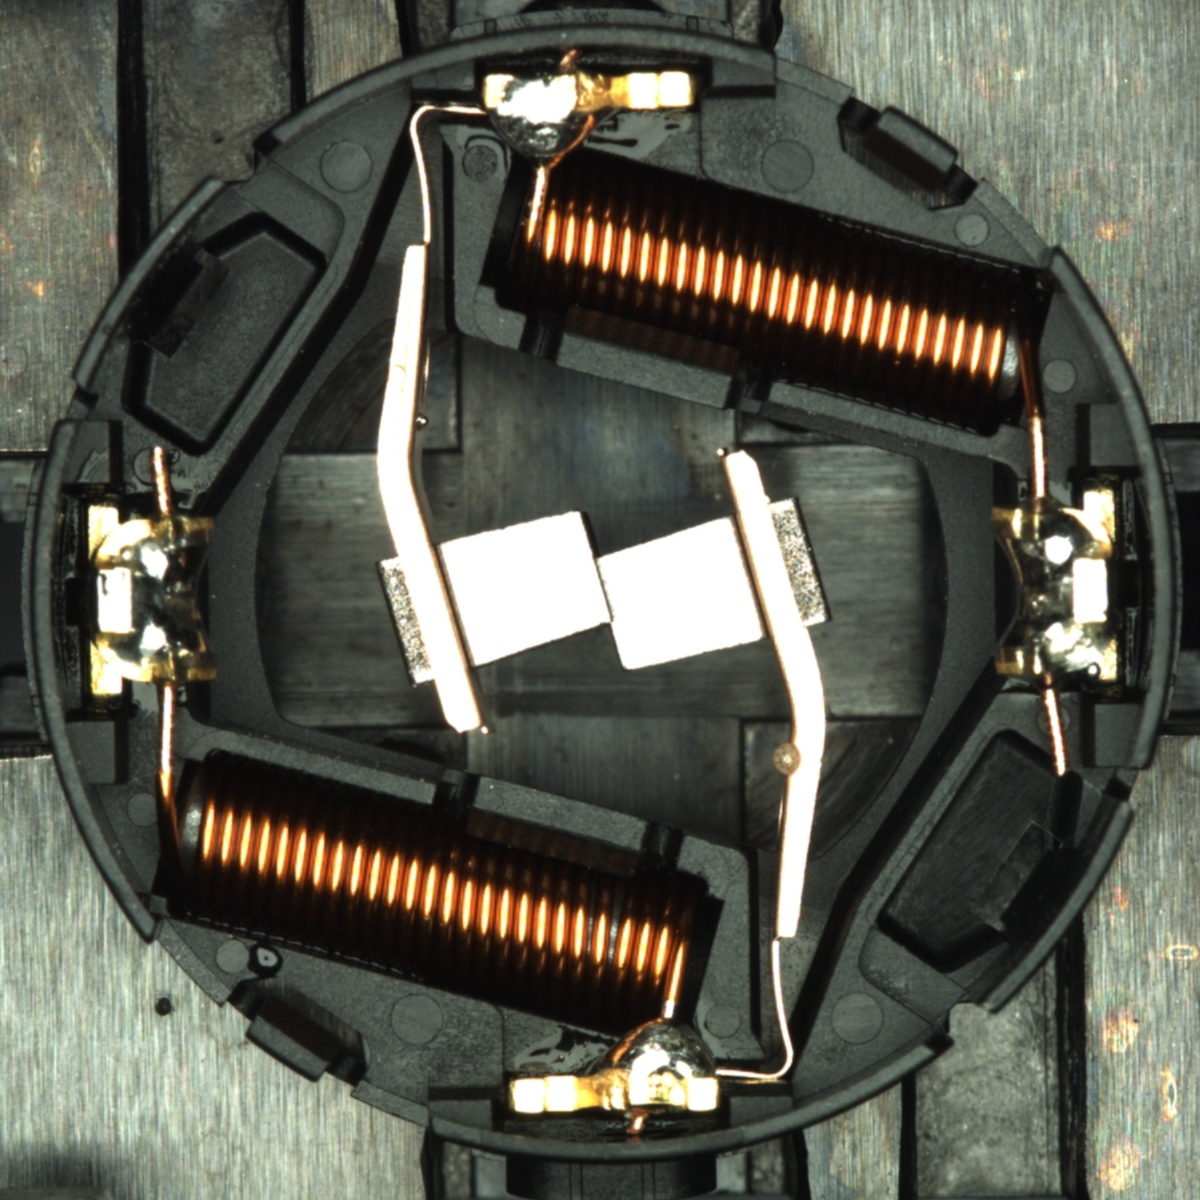1: (255, 30, 484, 255), (713, 927, 943, 1152)
2: (713, 30, 943, 255), (255, 927, 484, 1152)
3: (25, 255, 255, 479), (943, 703, 1171, 927)
4: (713, 703, 943, 927), (255, 255, 484, 479)
5: (484, 142, 713, 367), (484, 815, 713, 1040)
6: (713, 255, 943, 479), (255, 703, 484, 927)
7: (25, 703, 255, 927), (943, 255, 1171, 479)
bui_chi: (414, 413, 429, 427)
cacbon: (397, 498, 800, 684)
chau_dien: (81, 498, 222, 699), (984, 488, 1123, 685)
tay_choi: (482, 69, 698, 170), (509, 1016, 722, 1116)
thanh_de: (956, 788, 1142, 1030), (59, 165, 244, 405)
